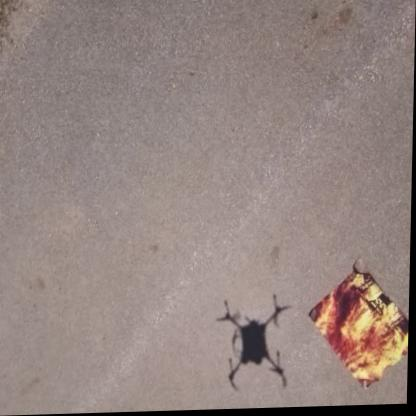fire-poster: (308, 259, 411, 395)
